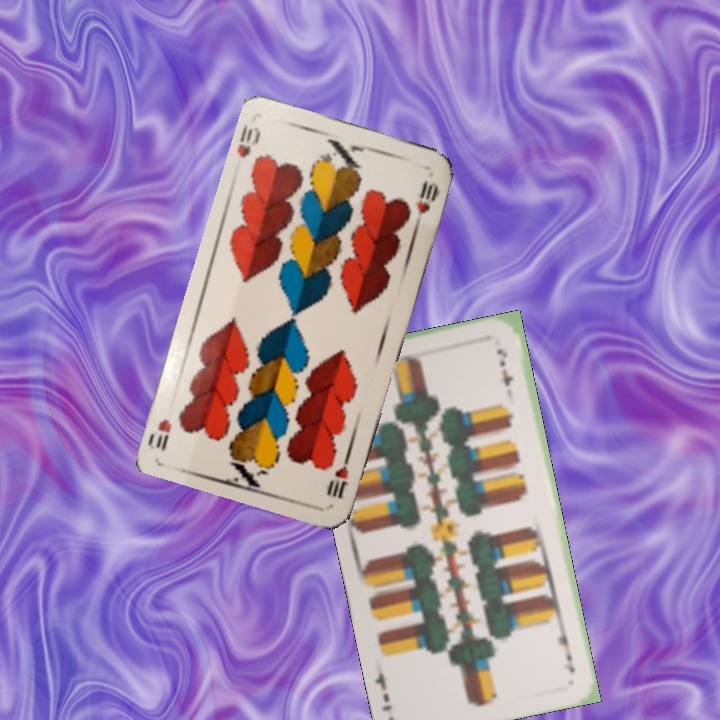E7: (554, 622, 577, 676)
H10: (323, 448, 354, 501), (233, 121, 264, 160)
